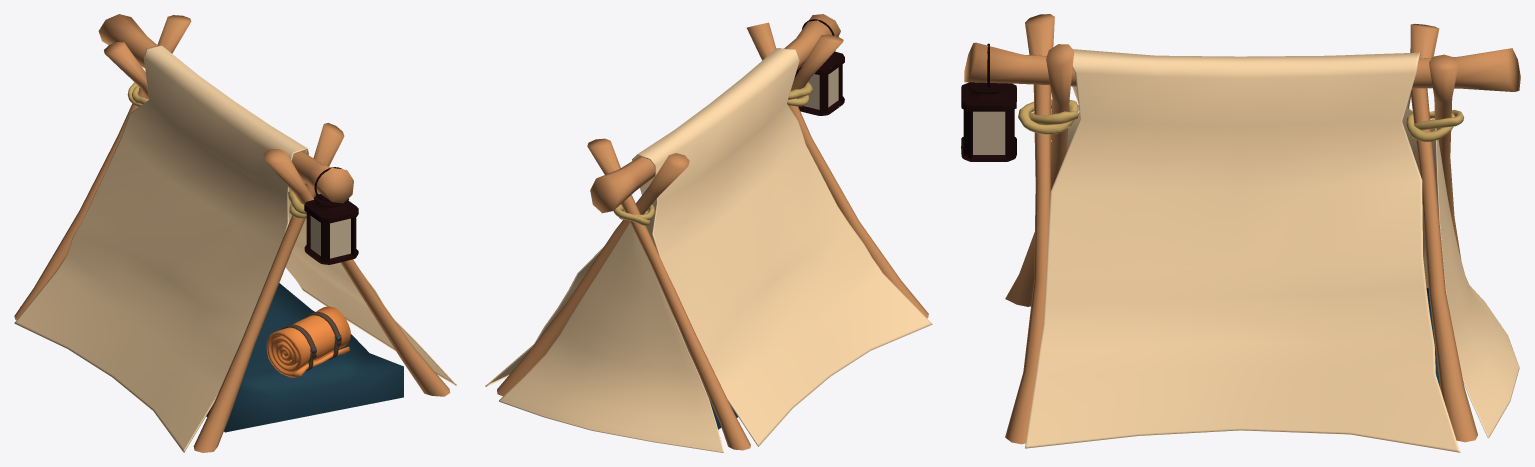
File: tent_2.glb
3 renders of one model, left to right at view 1: azimuth 30°, elevation 25°; view 2: azimuth 150°, elevation 25°; view 3: azimuth 270°, elevation 25°, orthographic. The views are drawn at different scales.
Parts seen in each view (by area): view 1: tent_Mat_0.021, tent_Mat_0.008, tent_Mat_0.002, tent_Mat_0.001, tent_Mat_0.005, Lamp, tent_Mat_0, tent_Mat_0.004, tent_Mat_0.003; view 2: tent_Mat_0.021, tent_Mat_0.018, tent_Mat_0.004, tent_Mat_0.003, tent_Mat_0, tent_Mat_0.002, Lamp, tent_Mat_0.001; view 3: tent_Mat_0.021, tent_Mat_0.018, tent_Mat_0.003, tent_Mat_0.001, tent_Mat_0, Lamp, tent_Mat_0.002, tent_Mat_0.004, tent_Mat_0.006, tent_Mat_0.010.
Boxes of the visible parts, x1,y1,x2,y2 form: tent_Mat_0.021: (14,45,456,452); tent_Mat_0.008: (206,283,403,432); tent_Mat_0.002: (193,123,344,452); tent_Mat_0.001: (263,149,450,396); tent_Mat_0.005: (266,306,350,377); Lamp: (304,167,358,264); tent_Mat_0: (98,14,353,203); tent_Mat_0.004: (14,15,191,319); tent_Mat_0.003: (104,42,148,98); tent_Mat_0.021: (485,48,932,446); tent_Mat_0.018: (499,223,723,452); tent_Mat_0.004: (587,138,750,450); tent_Mat_0.003: (497,153,689,396); tent_Mat_0: (590,14,840,213); tent_Mat_0.002: (747,22,928,318); Lamp: (794,19,844,115); tent_Mat_0.001: (791,34,843,90); tent_Mat_0.021: (1025,49,1460,452); tent_Mat_0.018: (1436,128,1519,437); tent_Mat_0.003: (1410,24,1477,442); tent_Mat_0.001: (1005,14,1054,444); tent_Mat_0: (964,42,1520,91); Lamp: (961,43,1016,161); tent_Mat_0.002: (1005,44,1074,306); tent_Mat_0.004: (1429,54,1461,259); tent_Mat_0.006: (1018,99,1078,134); tent_Mat_0.010: (1406,111,1455,141).
Size of the model in its own units: 4.99 by 4.82 by 7.21.
